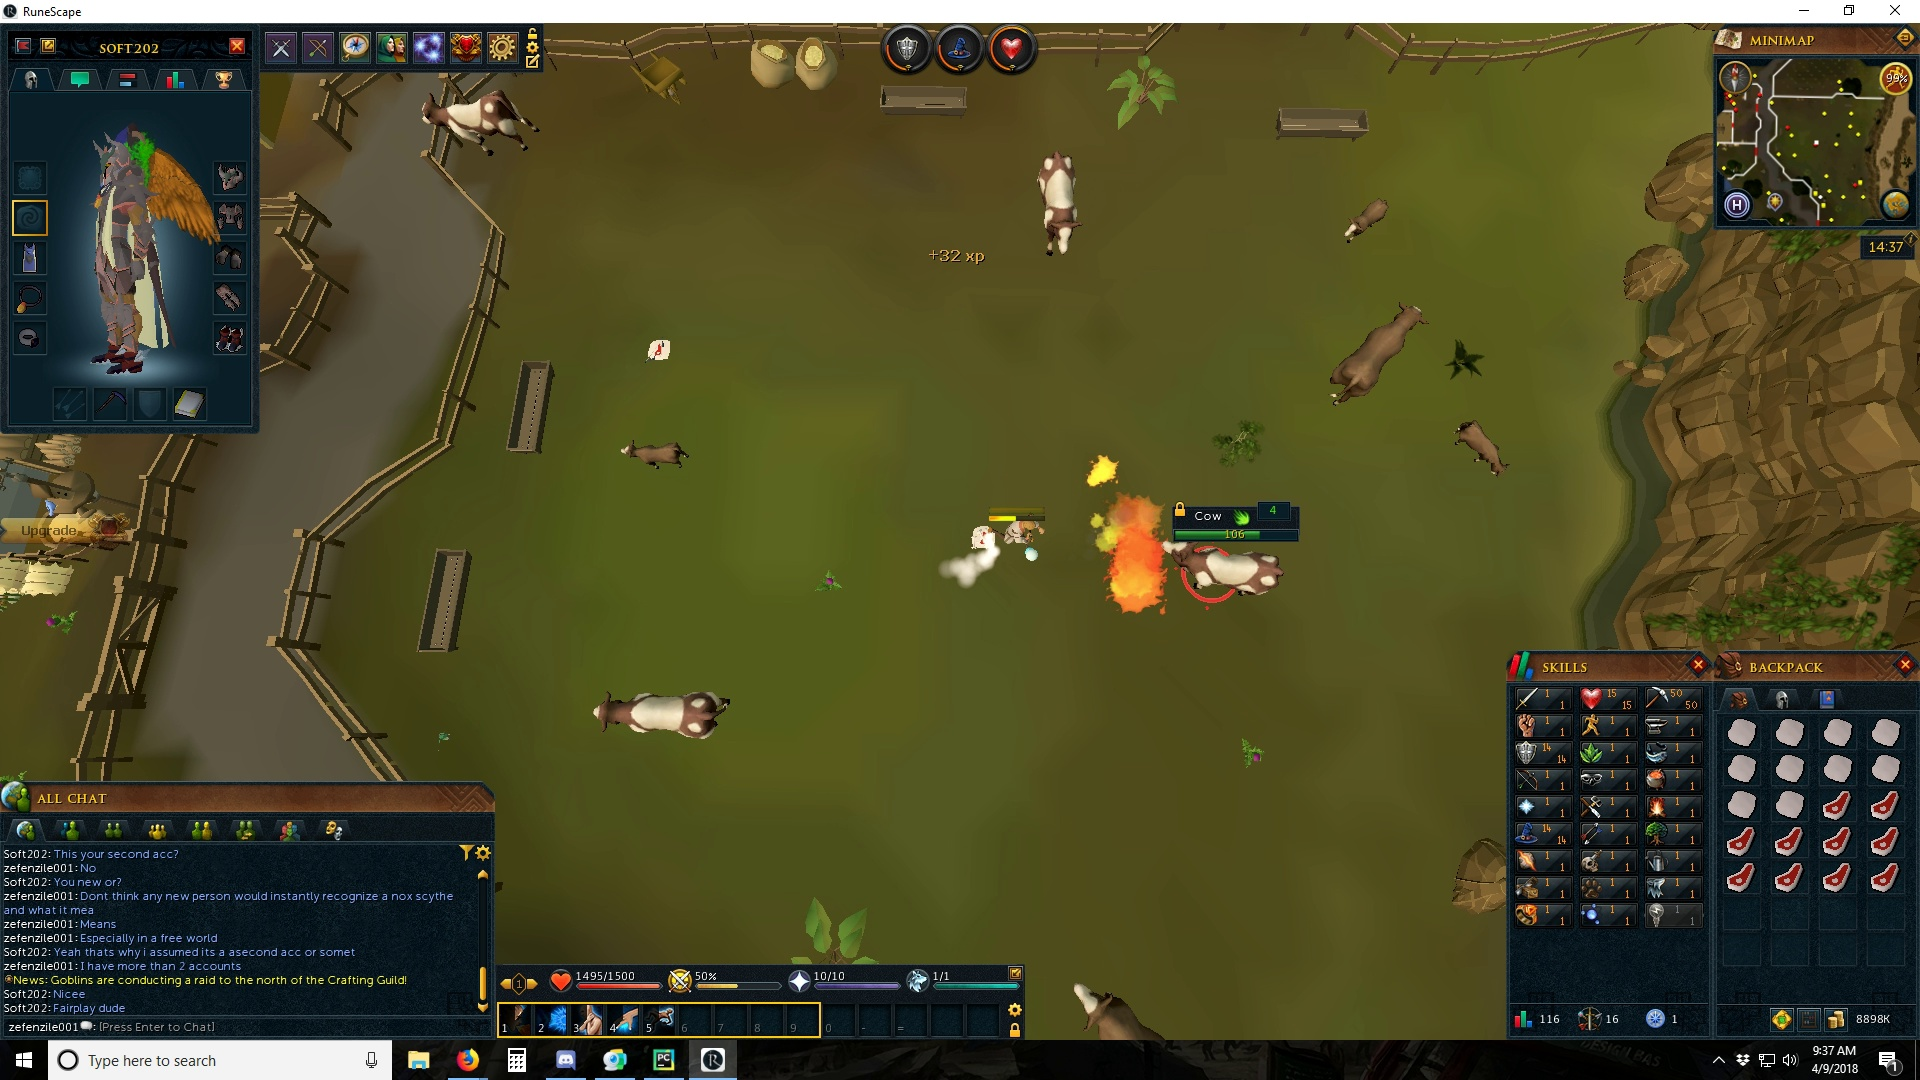calf: (1452, 419, 1513, 484), (1337, 196, 1389, 249), (618, 439, 692, 469)
cow: (1323, 298, 1432, 413), (410, 91, 543, 157), (589, 687, 732, 742), (1160, 543, 1284, 603), (1033, 150, 1080, 257)
cow_drop: (644, 334, 674, 361)
